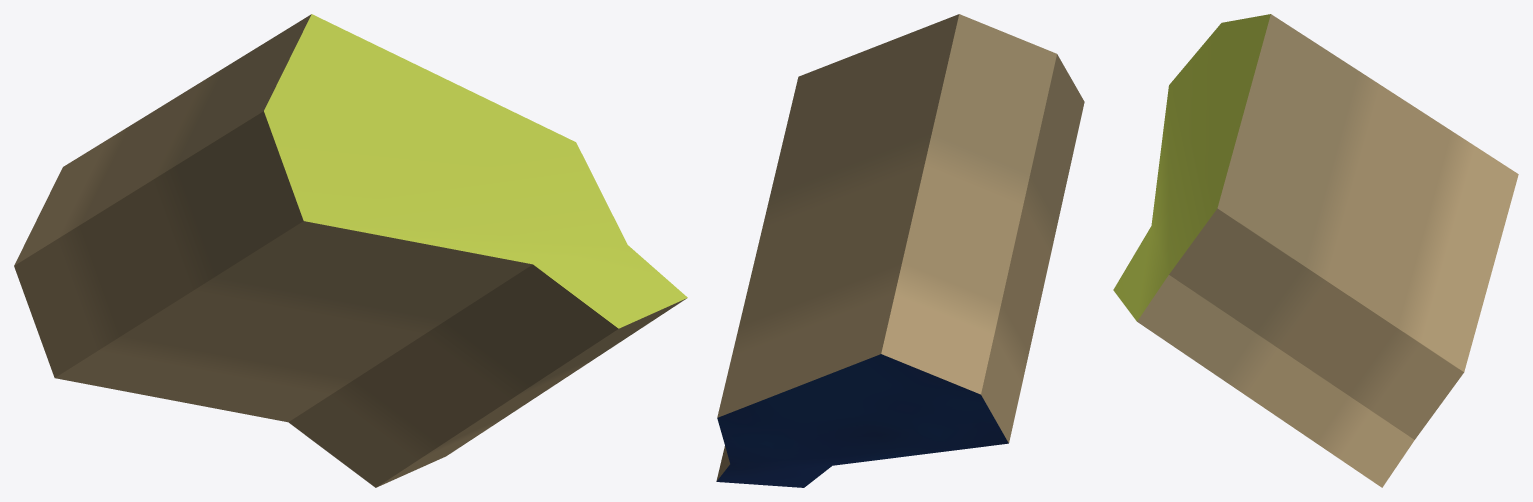
The model's file is 0679_Slovenia.glb.
3 renders of one model, left to right at view 1: azimuth 30°, elevation 25°; view 2: azimuth 150°, elevation 25°; view 3: azimuth 270°, elevation 25°, orthographic. The views are drawn at different scales.
Visible parts, largest first — view 1: part_0; view 2: part_0; view 3: part_0.
Boxes of the visible parts, <box> form: part_0: <box>14,14,687,487</box>; part_0: <box>716,14,1084,487</box>; part_0: <box>1113,14,1518,487</box>.
Bounding box in the file's own units: 0.2265 × 0.2671 × 0.2459.
1 material, 1 textured.
